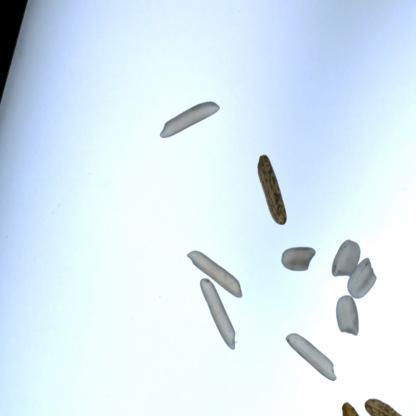Full: (151, 90, 219, 174), (237, 154, 300, 232), (191, 276, 248, 353), (282, 332, 349, 384), (179, 249, 248, 299), (274, 239, 320, 282), (331, 294, 371, 338), (345, 255, 378, 304), (366, 380, 412, 415), (331, 231, 360, 279), (341, 394, 370, 416)
